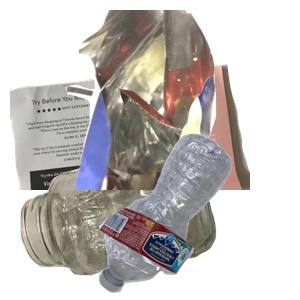glass: (18, 143, 227, 300)
paper: (10, 61, 250, 241)
plastic: (96, 131, 300, 300)
trash: (63, 10, 300, 190)
